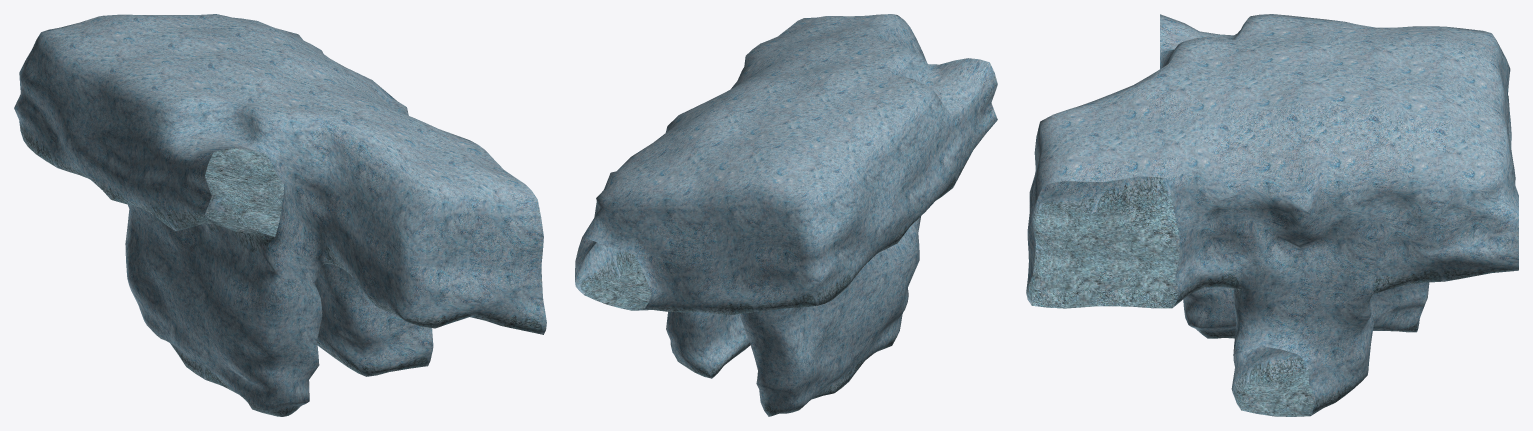
The model's file is thm_all_cave_s02_ice_r2_mesh_r2.fbx.
3 views of the same model, side by side, from view 1: azimuth 30°, elevation 25°; view 2: azimuth 150°, elevation 25°; view 3: azimuth 270°, elevation 25° (orthographic). The views are drawn at different scales.
Visible parts, largest first — view 1: mesh_node; view 2: mesh_node; view 3: mesh_node.
Boxes of the visible parts, bbox=[...] form: mesh_node: bbox=[14, 14, 546, 416]; mesh_node: bbox=[575, 14, 997, 416]; mesh_node: bbox=[1026, 14, 1518, 416].
Size of the model in its own units: 43.2 by 47.58 by 71.62.
